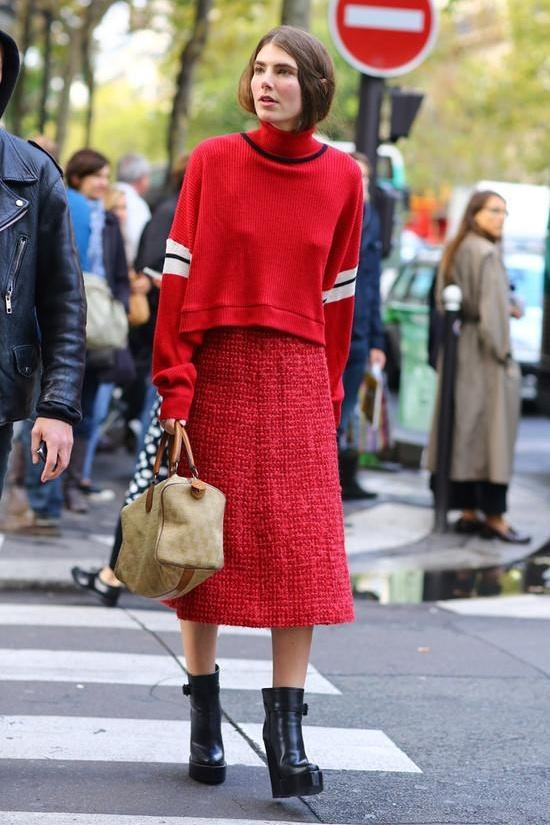skirt: (162, 320, 354, 631)
sweater: (153, 121, 363, 421)
